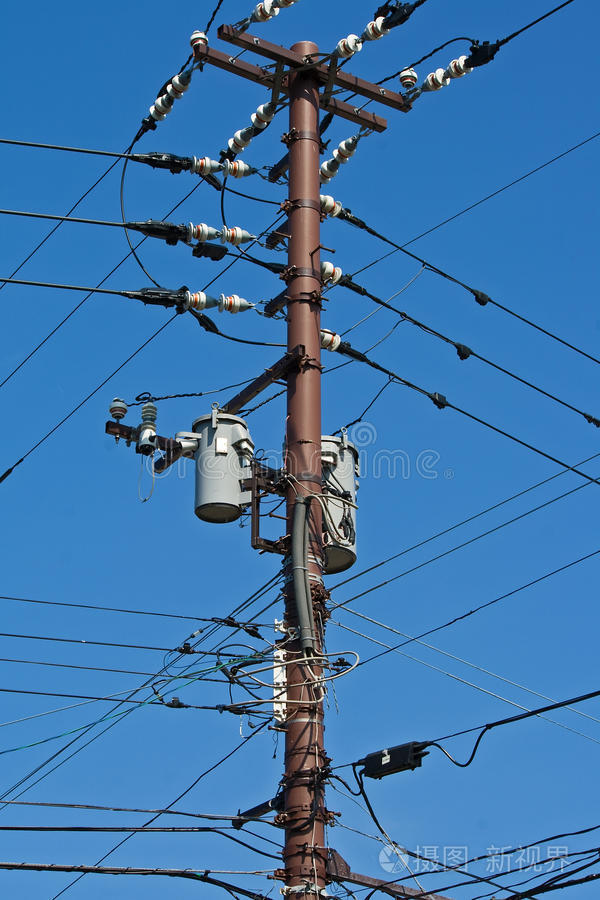insulator: (224, 100, 276, 154), (138, 75, 186, 130), (330, 20, 387, 58), (417, 57, 469, 95), (320, 139, 358, 179), (256, 1, 290, 26)
